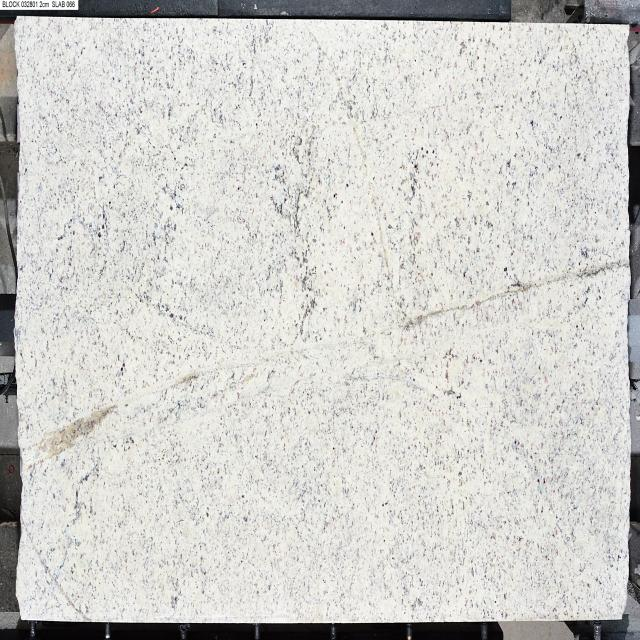chapa: (15, 17, 630, 622)
